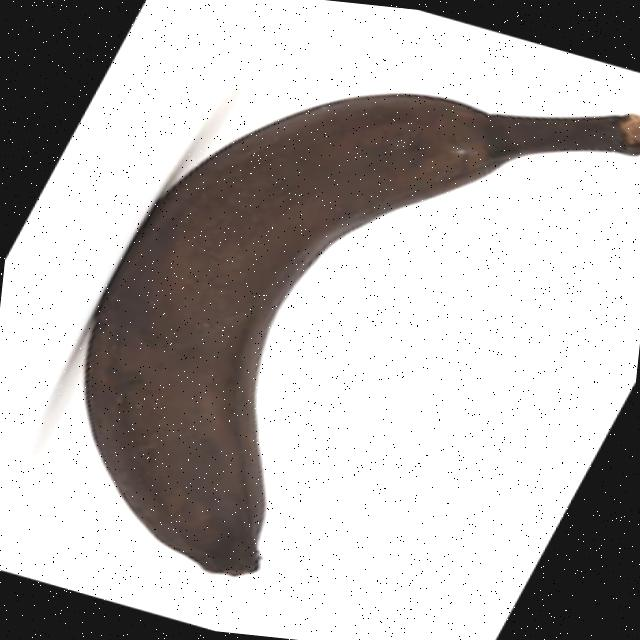Rotten: (62, 59, 640, 616)
